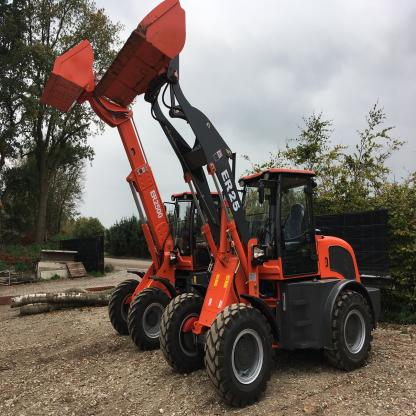bull_dozer/loader/grader: (28, 4, 386, 397)
